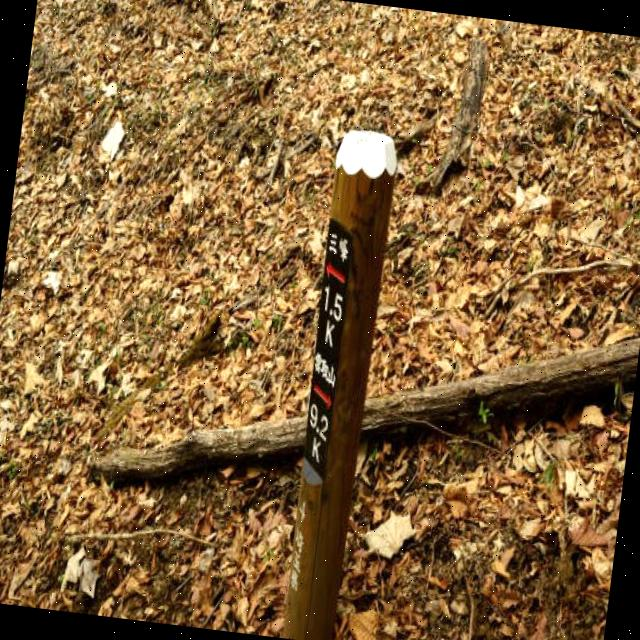Broken Pole: (86, 327, 640, 483)
